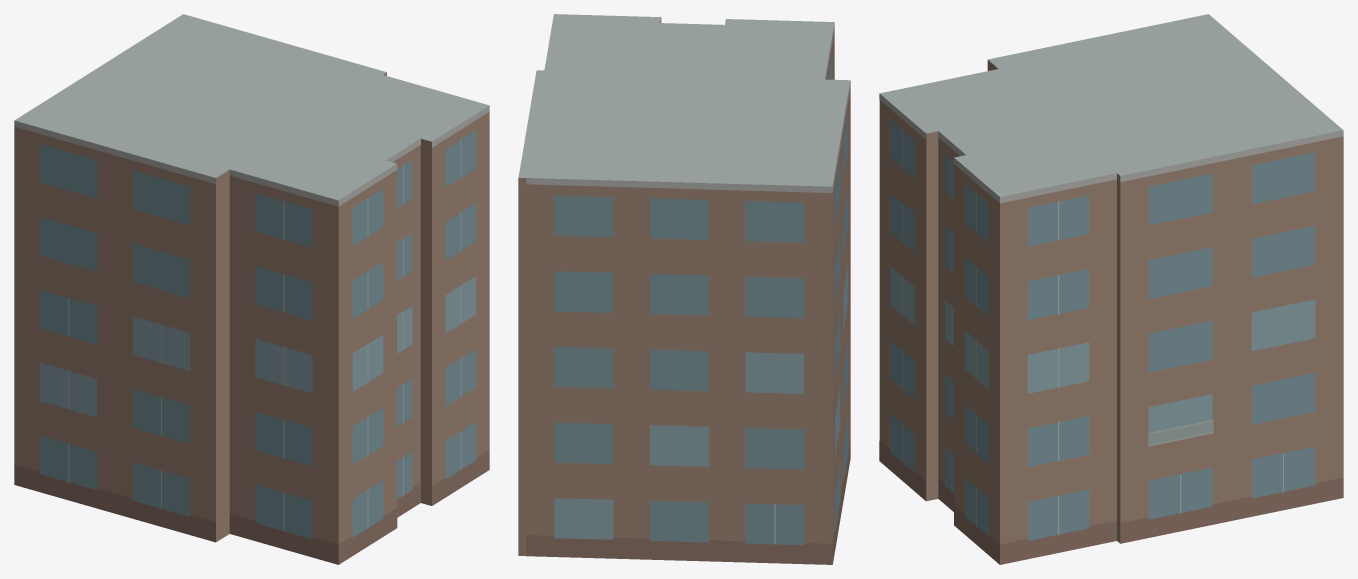
The model's file is survey-upis-32873252.glb.
3 views of the same model, side by side, from view 1: azimuth 30°, elevation 25°; view 2: azimuth 150°, elevation 25°; view 3: azimuth 270°, elevation 25° (orthographic). The views are drawn at different scales.
Parts seen in each view (by area): view 1: survey-upis-32873252.tmp; view 2: survey-upis-32873252.tmp; view 3: survey-upis-32873252.tmp.
Boxes of the visible parts, x1,y1,x2,y2 form: survey-upis-32873252.tmp: (14,14,489,564); survey-upis-32873252.tmp: (518,14,850,564); survey-upis-32873252.tmp: (879,14,1343,564).
Size of the model in its own units: 15.5 by 14.5 by 16.59.
